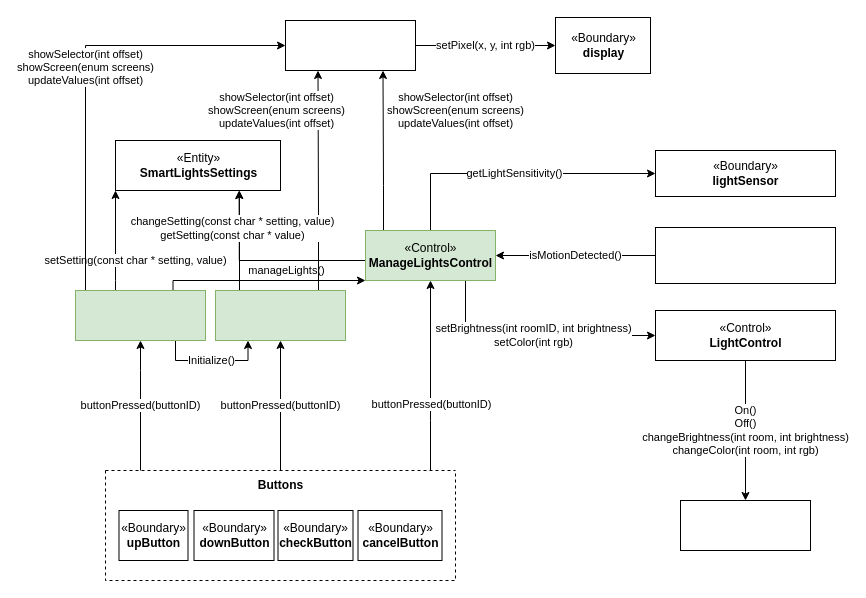
The diagram is 866 pixels wide and 598 high, and some of its shapes have lost their labels. Each missing label, with the centre of its shape:
«Boundary» light [1...nRooms]: the point at 745,525
«Boundary» motionSensor [1...nRooms]: the point at 745,255
«Control» DisplayControl: the point at 350,45
«Control» InitializeControl: the point at 280,315
«Control» SmartLightControl: the point at 140,315
